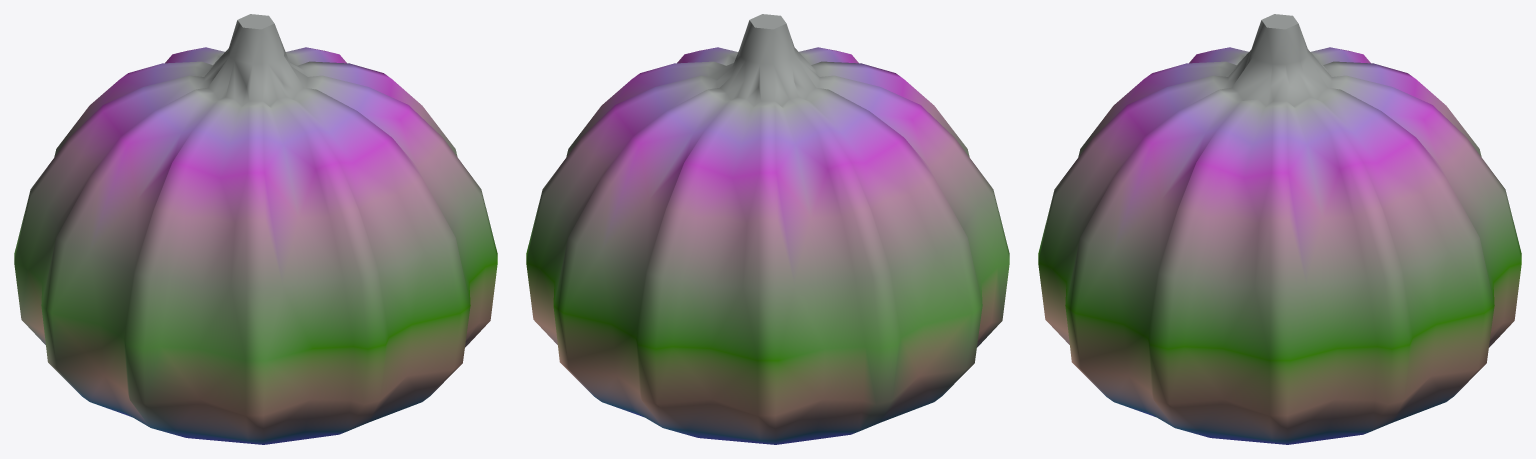
The picture shows the model from 3 angles, left to right: view 1: azimuth 30°, elevation 25°; view 2: azimuth 150°, elevation 25°; view 3: azimuth 270°, elevation 25°; orthographic projection.
Visible parts, largest first — view 1: G:\FFXIV-MapTools\exports\y6f3\bg\ex5\02_ykt_y6\fld\y6f3\bgp; view 2: G:\FFXIV-MapTools\exports\y6f3\bg\ex5\02_ykt_y6\fld\y6f3\bgp; view 3: G:\FFXIV-MapTools\exports\y6f3\bg\ex5\02_ykt_y6\fld\y6f3\bgp.
Boxes of the visible parts, box(x1,y1,x2,y2) form: G:\FFXIV-MapTools\exports\y6f3\bg\ex5\02_ykt_y6\fld\y6f3\bgp: box(14, 14, 497, 444); G:\FFXIV-MapTools\exports\y6f3\bg\ex5\02_ykt_y6\fld\y6f3\bgp: box(526, 14, 1009, 444); G:\FFXIV-MapTools\exports\y6f3\bg\ex5\02_ykt_y6\fld\y6f3\bgp: box(1038, 14, 1521, 444).
Size of the model in its own units: 0.5933 by 0.5094 by 0.5933.
